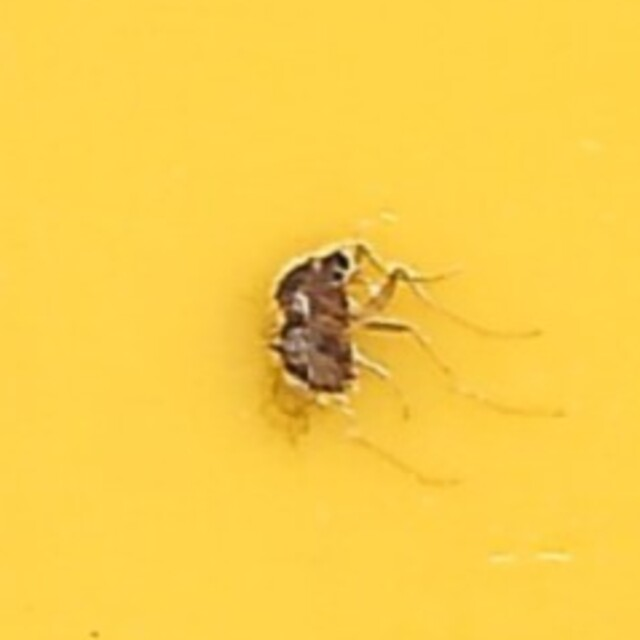Brachycera: (268, 245, 372, 395)
